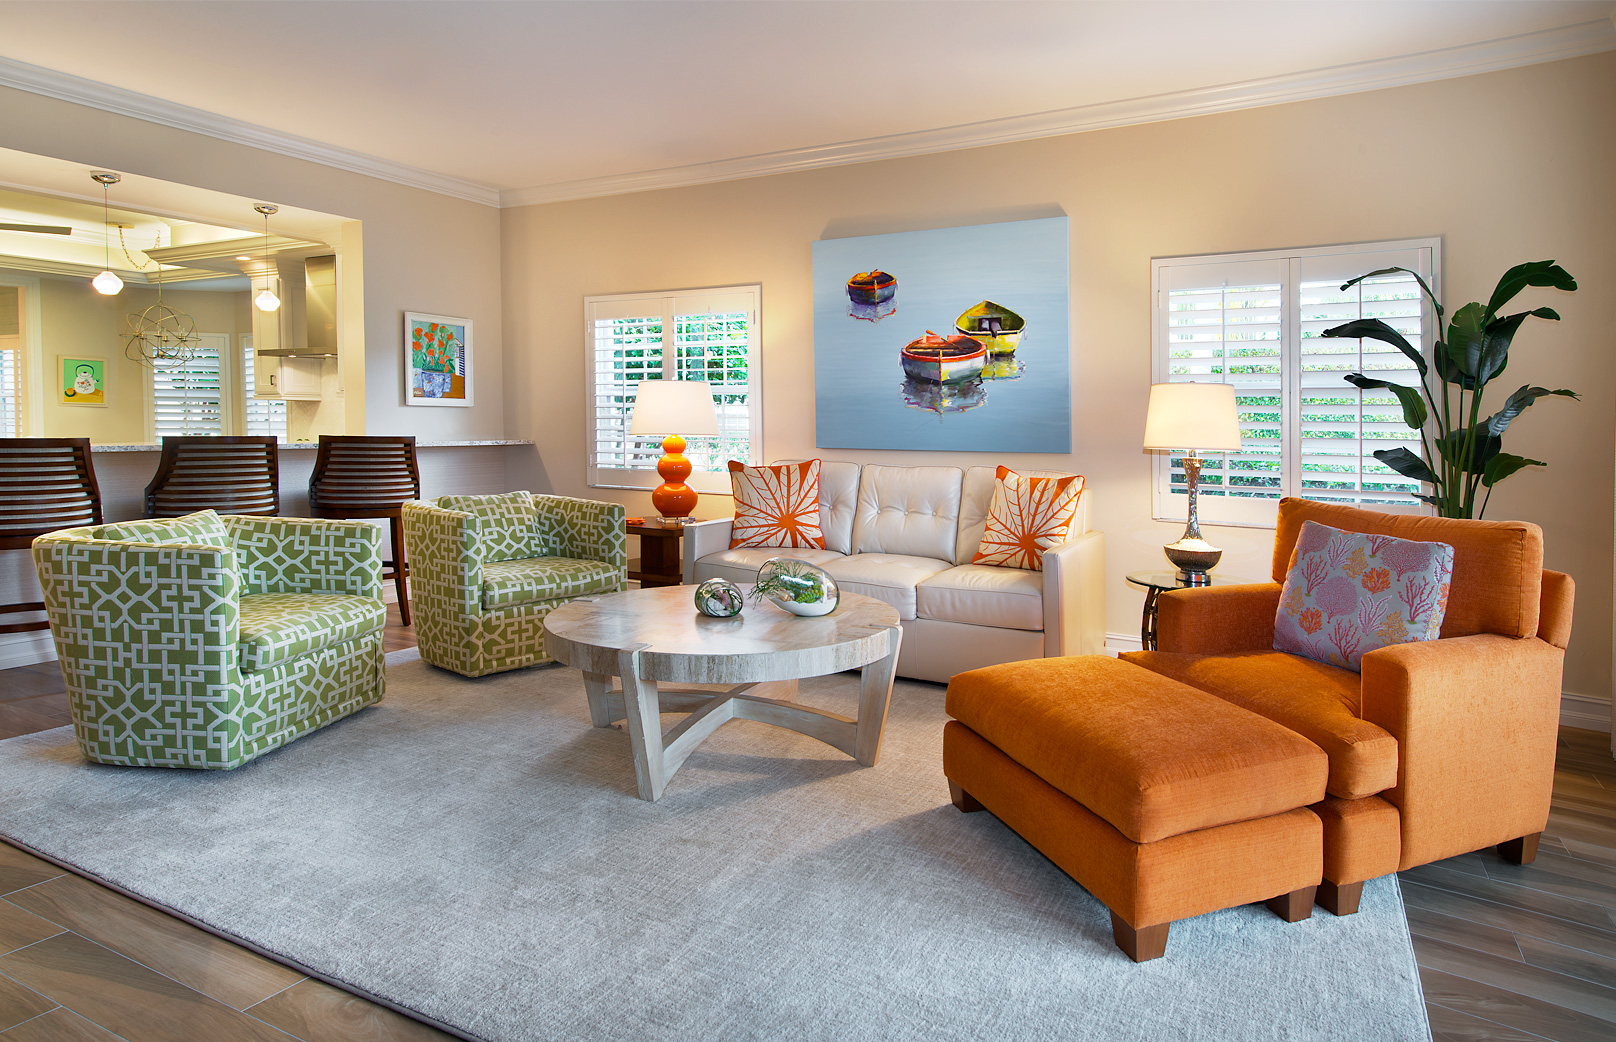coklat: (145, 433, 283, 519), (1, 438, 102, 525), (307, 434, 419, 505)
orange: (1152, 536, 1567, 915), (951, 676, 1330, 942), (653, 436, 698, 517)
putih: (860, 465, 979, 615), (1144, 383, 1244, 457)
